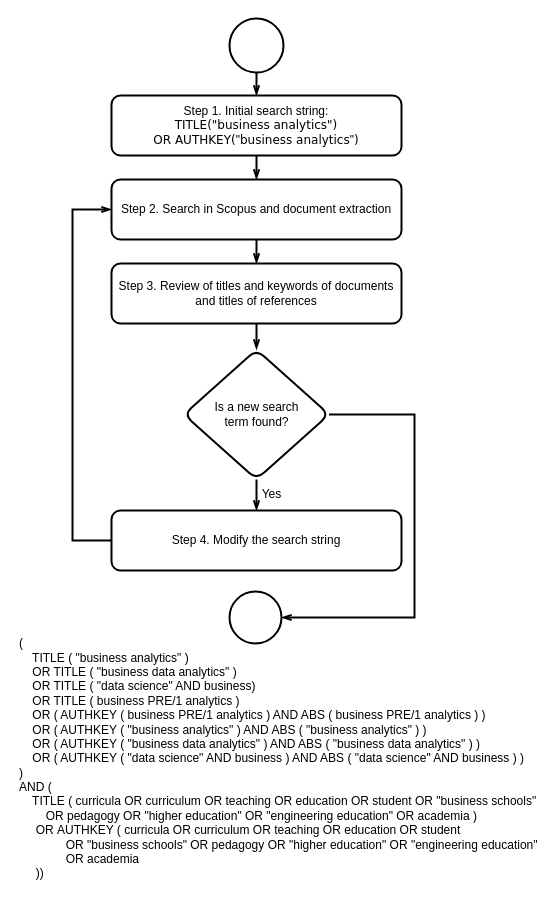
Image size: 560x897. Some labels were removed from this diagram. Here are the shapes that lost their labels. From the top down, the centre of each, then its label:
At [256,45]: "Start".
At [255,617]: "End".
